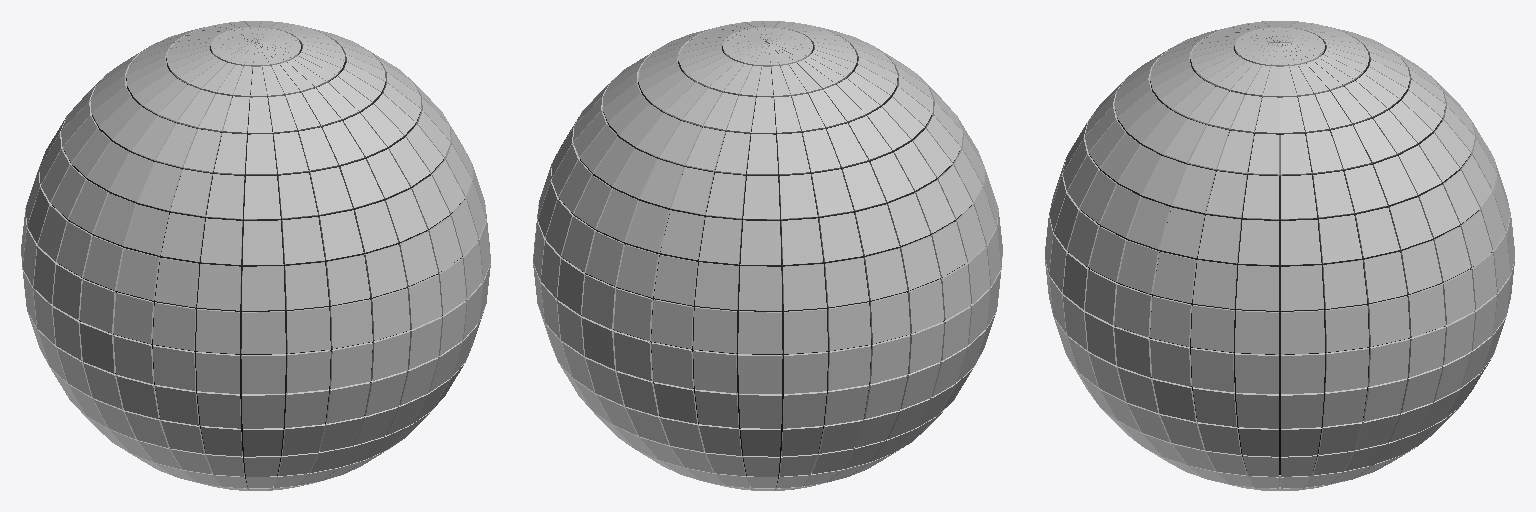
Rendered from bolaDeEspejosblend.obj.
The picture shows the model from 3 angles: view 1: azimuth 30°, elevation 25°; view 2: azimuth 150°, elevation 25°; view 3: azimuth 270°, elevation 25°; orthographic projection.
Visible parts, largest first — view 1: Sphere, Sphere.001; view 2: Sphere, Sphere.001; view 3: Sphere, Sphere.001.
Boxes of the visible parts, x1=… form: Sphere: x1=21, y1=21, x2=490, y2=490; Sphere.001: x1=52, y1=46, x2=464, y2=486; Sphere: x1=533, y1=21, x2=1002, y2=490; Sphere.001: x1=559, y1=46, x2=971, y2=486; Sphere: x1=1045, y1=21, x2=1514, y2=490; Sphere.001: x1=1068, y1=46, x2=1491, y2=474.
Bounding box in the file's own units: 2.09 × 2.09 × 2.09.